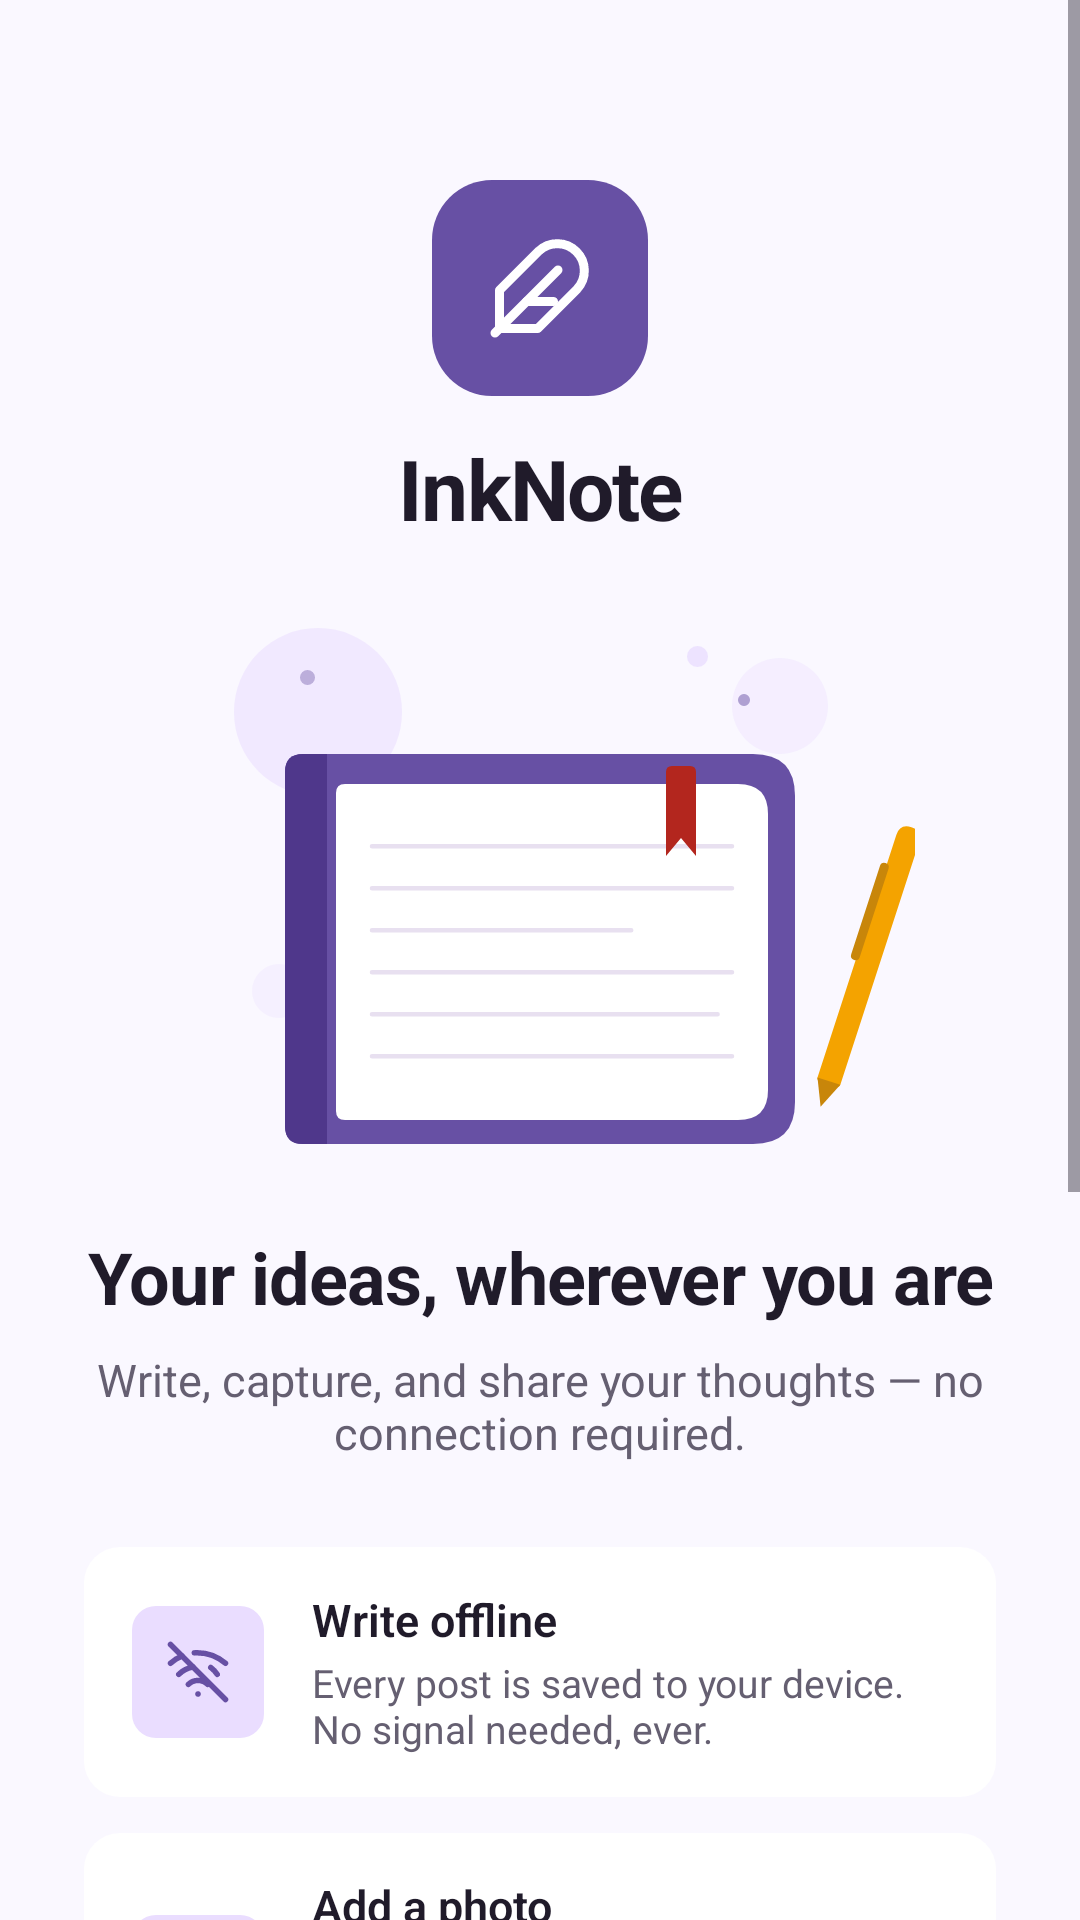

Icons on this 1080w x 1920h Android screen, each with the point to tap as [x,y]:
welcome feather: [540,288]
welcome offline: [198,1672]
